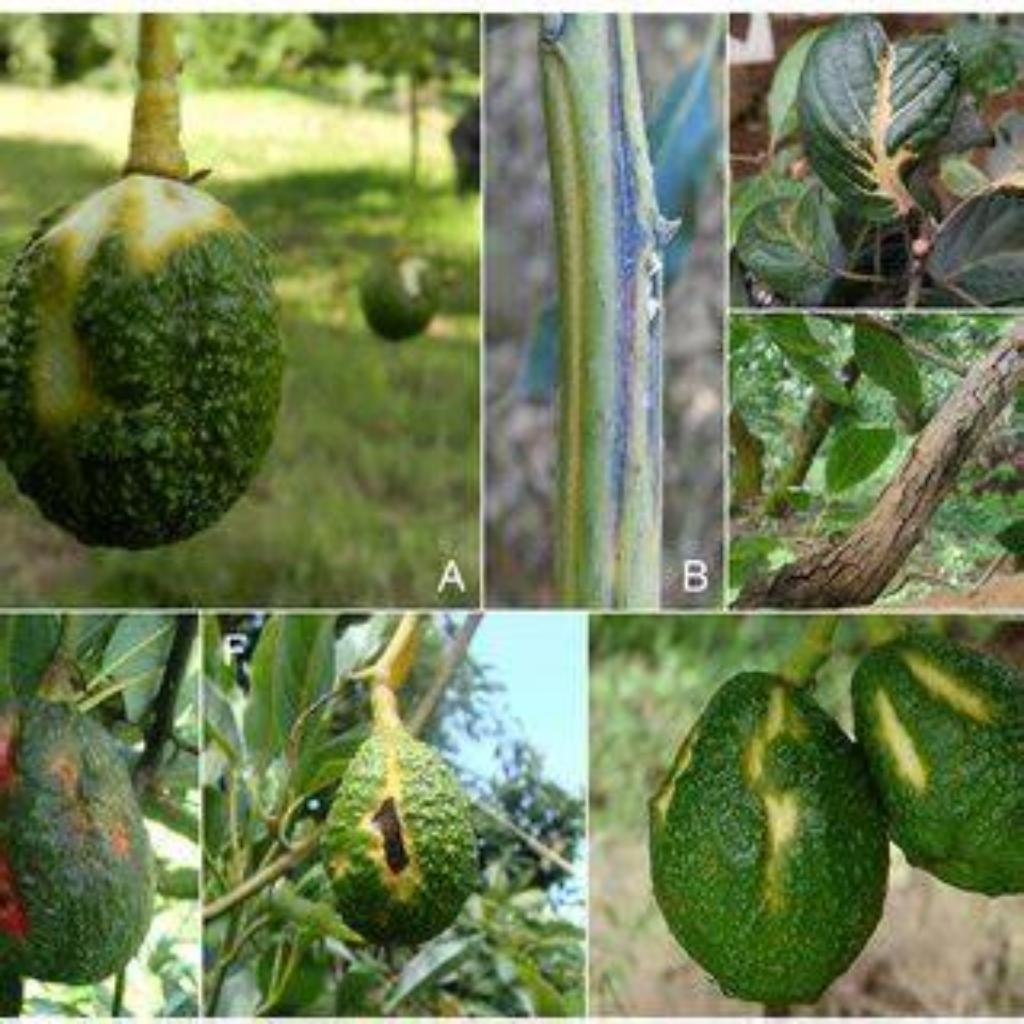sunblotch: (13, 167, 263, 452), (656, 682, 852, 903), (0, 699, 156, 942), (309, 733, 479, 899), (827, 643, 1009, 793), (352, 245, 458, 309)
